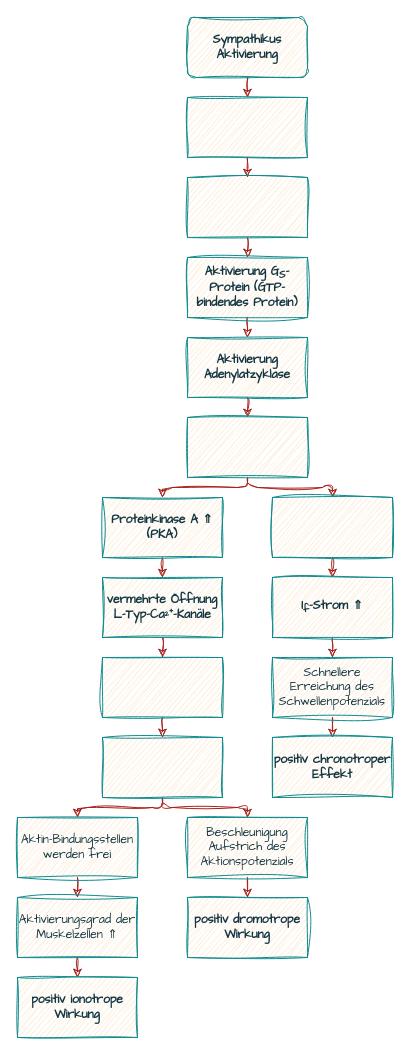
Some shapes in this 410 by 1055 pixel diagram are drawn without their labels. Here are the shapes that lost their labels. From the top down, the box of each, then its label:
(186, 96, 308, 158): Freisetzung von Noradrenalin + Adrenalin
(186, 176, 308, 238): Bindung an β 1 -Adrenorezeptoren
(186, 416, 308, 478): Umwandlung ATP -> cAMP
(272, 496, 392, 558): vermehrte Öffnung HCN-Kanäle (funny channels)
(102, 656, 222, 718): vermehrter Ca²⁺-Einstrom aus Extrazellularraum
(102, 736, 222, 798): vermehrte Ca²⁺-Freisetzung aus Sarkoplasmatischem Retikulum
